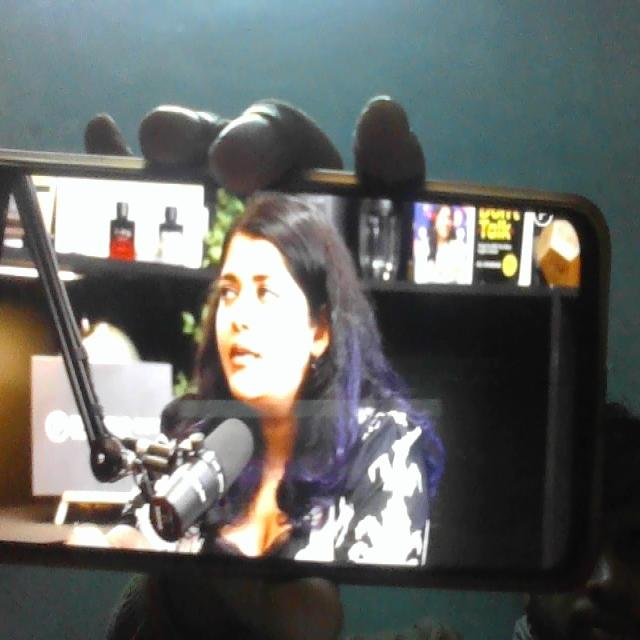fake: (197, 160, 333, 417)
